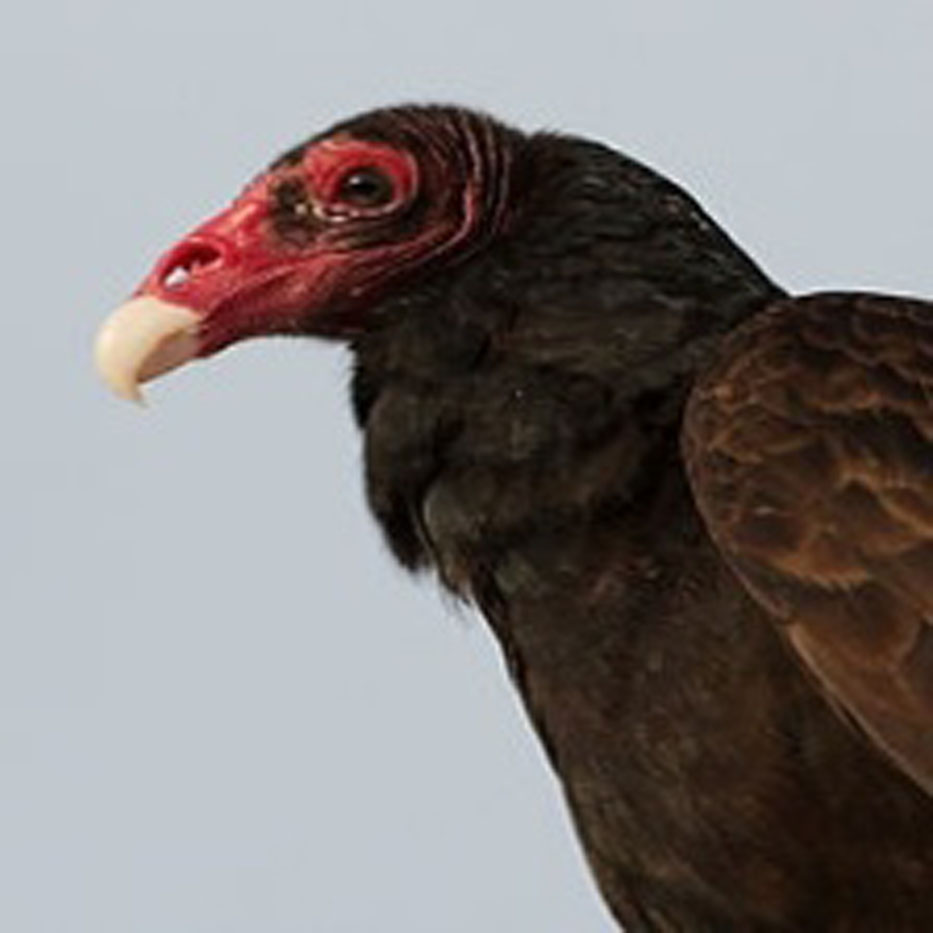Pengoyak Daging: (76, 288, 240, 429)
